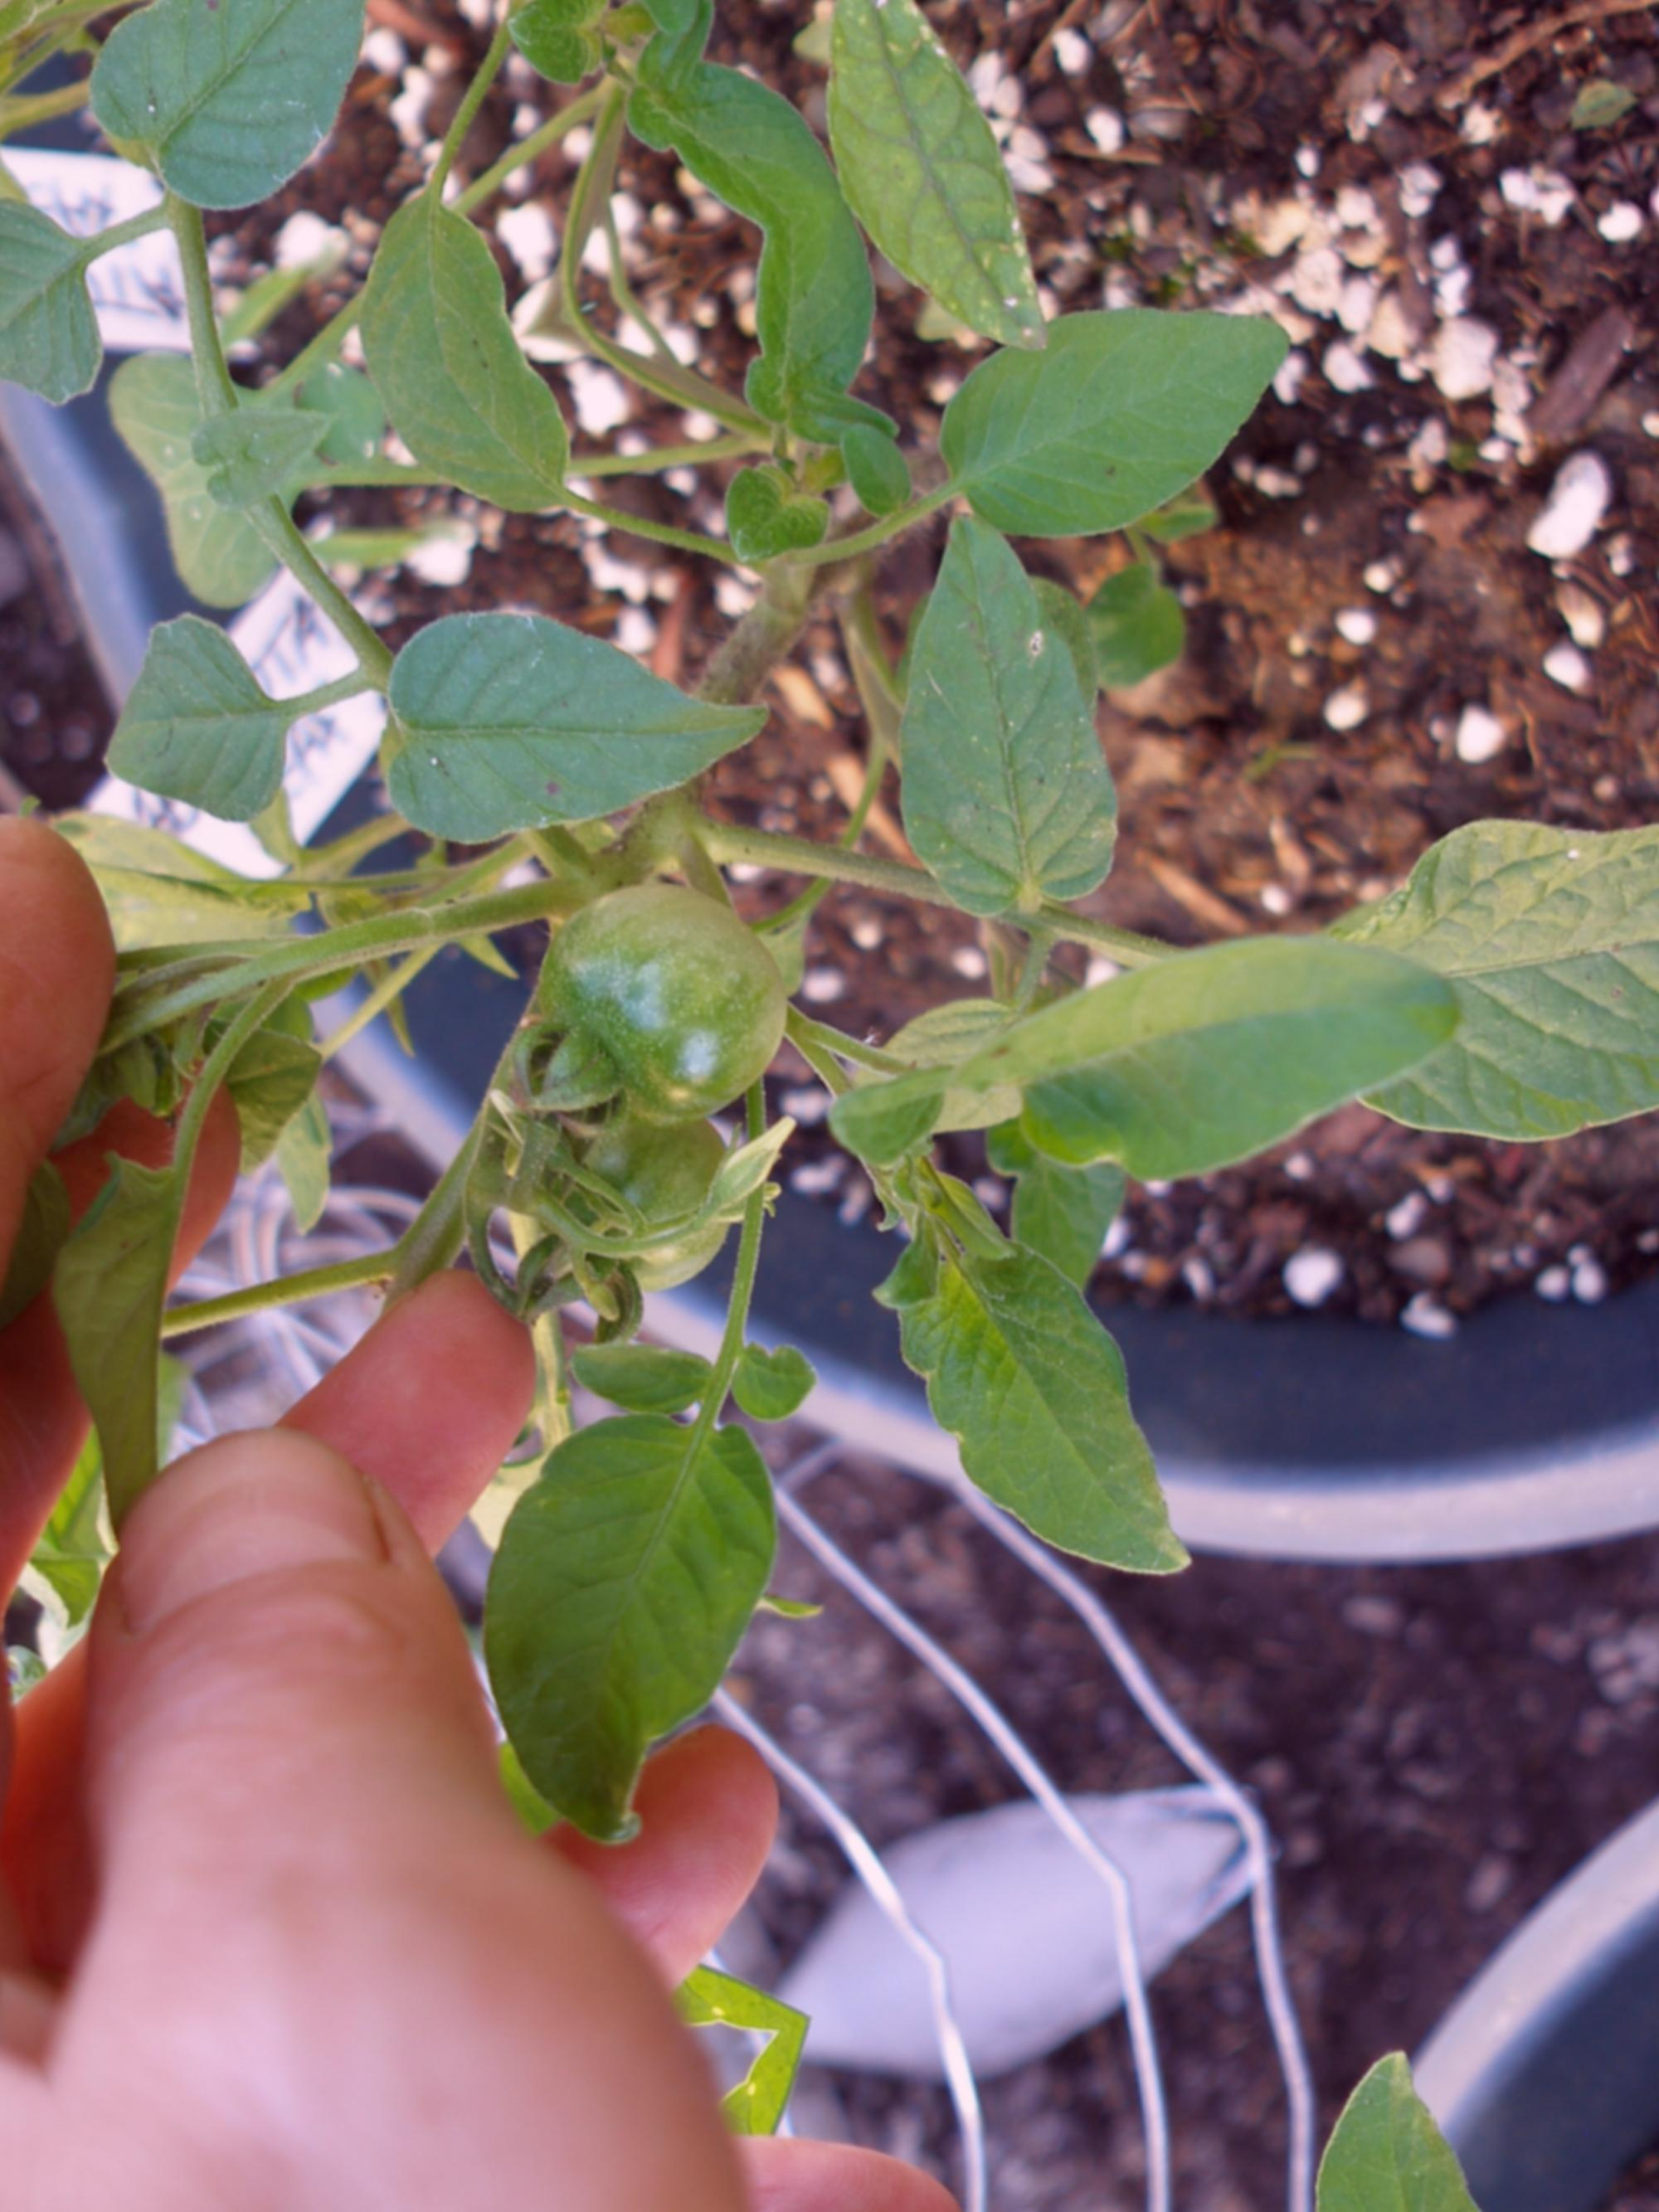Tomato leaf: (352, 1298, 953, 1897), (1202, 571, 1659, 1296), (772, 463, 1241, 1001), (821, 1224, 1293, 1730), (974, 843, 1521, 1249), (871, 193, 1380, 622), (312, 491, 769, 951), (657, 188, 972, 531)
